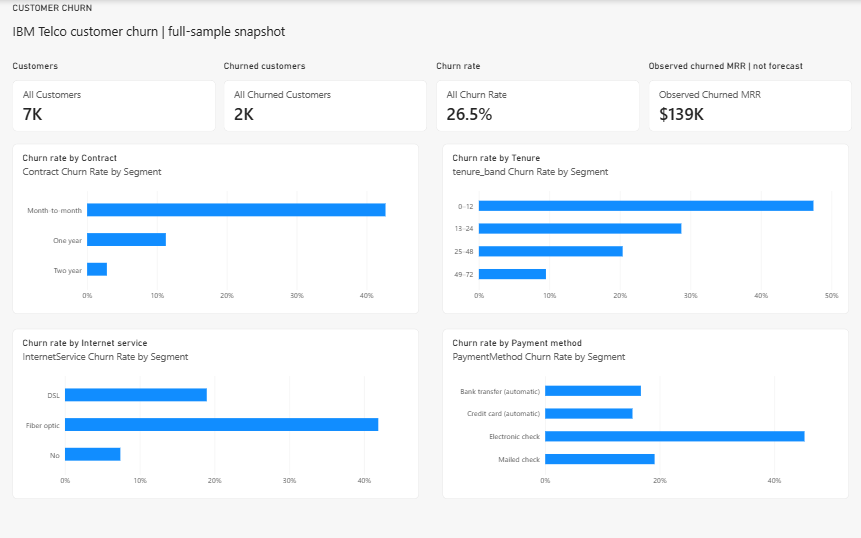

The page's visual inventory and layout, read from the dashboard file:
{"tool":"powerbi","page":{"name":"Churn | Executive overview","canvas":[1440,900],"ordinal":0},"visuals":[{"type":"textbox","title":"CUSTOMER CHURN","box":[20,5,1400,80],"z":1},{"type":"cardVisual","title":"Customers","fields":{"Data":["ChurnSegments.All Customers"]},"box":[20,100,340,120],"z":2},{"type":"cardVisual","title":"Churned customers","fields":{"Data":["ChurnSegments.All Churned Customers"]},"box":[375,100,340,120],"z":3},{"type":"cardVisual","title":"Churn rate","fields":{"Data":["ChurnSegments.All Churn Rate"]},"box":[730,100,340,120],"z":4},{"type":"cardVisual","title":"Observed churned MRR | not forecast","fields":{"Data":["ChurnSegments.Observed Churned MRR"]},"box":[1085,100,340,120],"z":5},{"type":"clusteredBarChart","title":"Churn rate by Contract","fields":{"Category":["ChurnSegments.Segment"],"Y":["ChurnSegments.Contract Churn Rate"]},"box":[20,240,680,285],"z":6},{"type":"clusteredBarChart","title":"Churn rate by Tenure","fields":{"Category":["ChurnSegments.Segment"],"Y":["ChurnSegments.tenure_band Churn Rate"]},"box":[740,240,680,285],"z":7},{"type":"clusteredBarChart","title":"Churn rate by Internet service","fields":{"Category":["ChurnSegments.Segment"],"Y":["ChurnSegments.InternetService Churn Rate"]},"box":[20,550,680,285],"z":8},{"type":"clusteredBarChart","title":"Churn rate by Payment method","fields":{"Category":["ChurnSegments.Segment"],"Y":["ChurnSegments.PaymentMethod Churn Rate"]},"box":[740,550,680,285],"z":9}]}

Visuals, with their boxes in screenshot pixels (x1, y1, x2, y2), scaled from the page's 1440x900 canvas onto the 861x538 screenshot:
"CUSTOMER CHURN" textbox: pyautogui.locateOnScreen(12, 3, 849, 51)
"Customers" cardVisual: pyautogui.locateOnScreen(12, 60, 215, 132)
"Churned customers" cardVisual: pyautogui.locateOnScreen(224, 60, 428, 132)
"Churn rate" cardVisual: pyautogui.locateOnScreen(436, 60, 640, 132)
"Observed churned MRR | not forecast" cardVisual: pyautogui.locateOnScreen(649, 60, 852, 132)
"Churn rate by Contract" clusteredBarChart: pyautogui.locateOnScreen(12, 143, 419, 314)
"Churn rate by Tenure" clusteredBarChart: pyautogui.locateOnScreen(442, 143, 849, 314)
"Churn rate by Internet service" clusteredBarChart: pyautogui.locateOnScreen(12, 329, 419, 499)
"Churn rate by Payment method" clusteredBarChart: pyautogui.locateOnScreen(442, 329, 849, 499)
